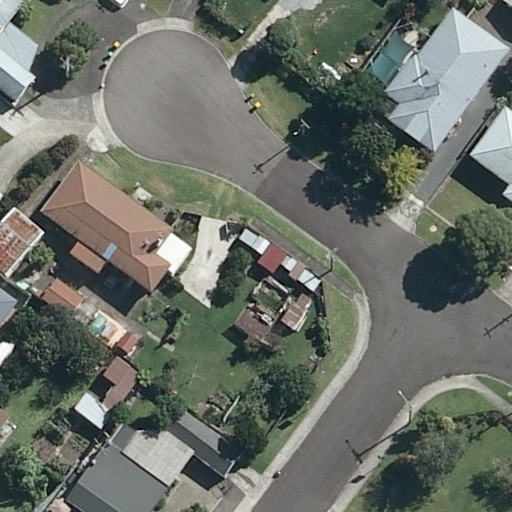DT: (399, 392, 414, 425), (298, 114, 310, 143), (326, 246, 336, 270)
